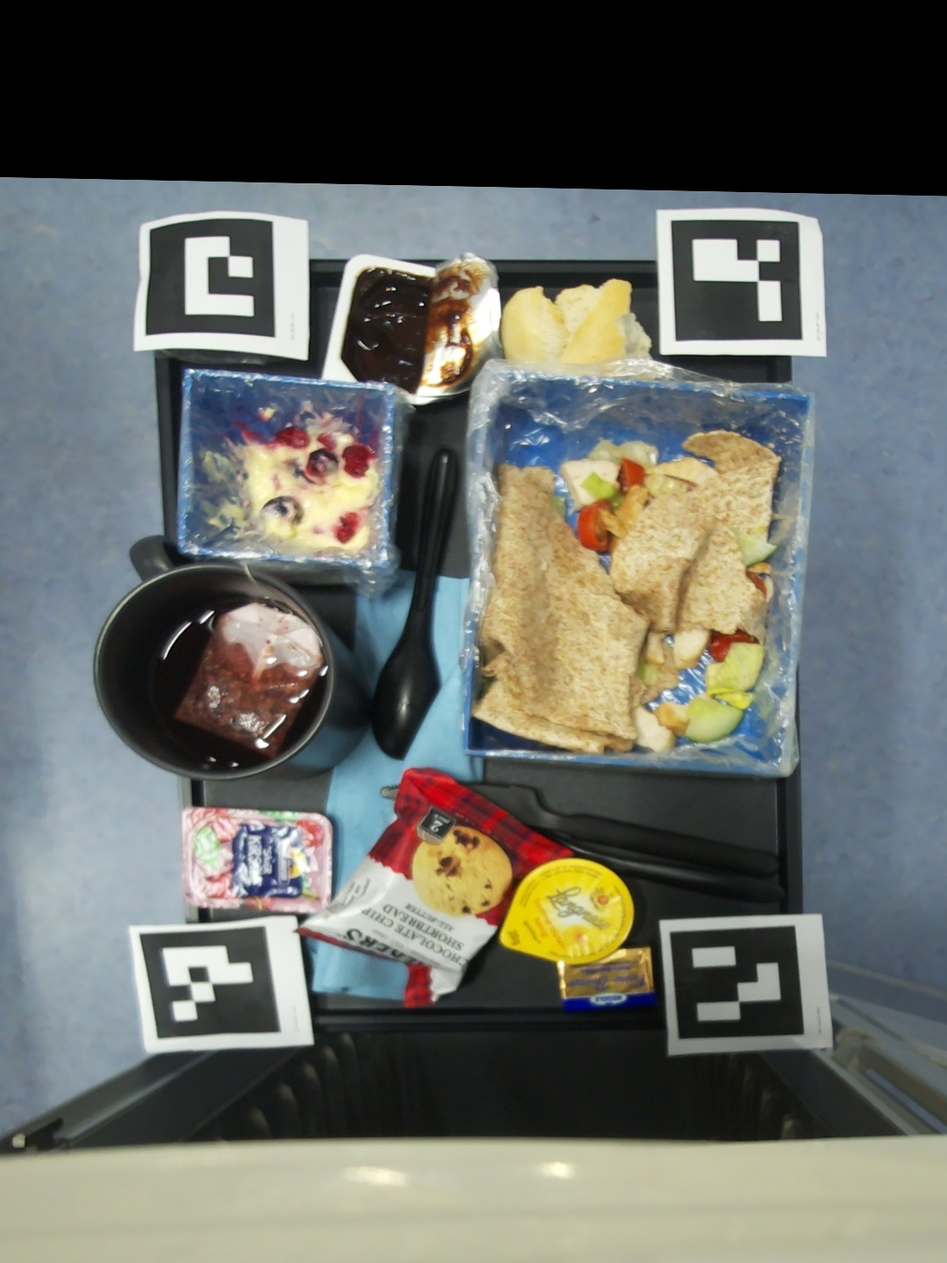bread_roll: (501, 279, 652, 366)
butter: (556, 946, 655, 1012)
cherry_jam: (182, 807, 332, 912)
cookie: (295, 768, 574, 1007)
fish_salmon: (499, 858, 634, 963)
plum_jam: (320, 253, 505, 406)
tea_cup: (93, 535, 371, 780)
vanilla_pudding_with_fruits: (227, 413, 380, 555)
wrap_half_1: (471, 464, 677, 754)
wrap_half_2: (558, 430, 782, 743)
